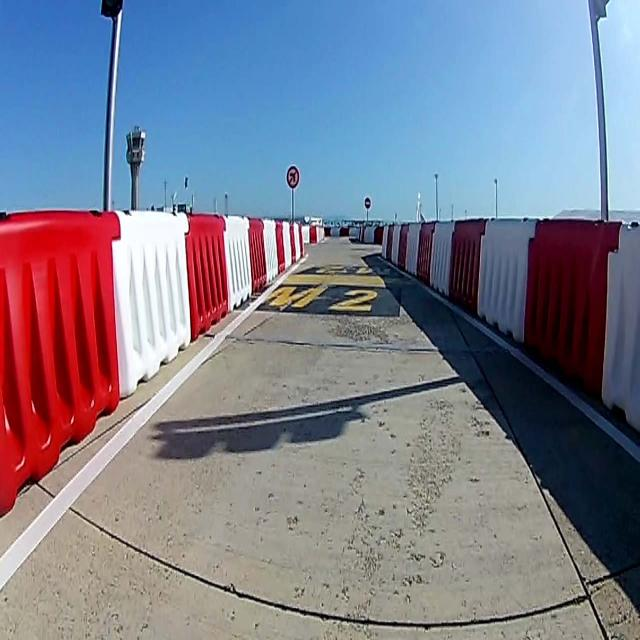soladonulmez: (286, 164, 300, 188)
